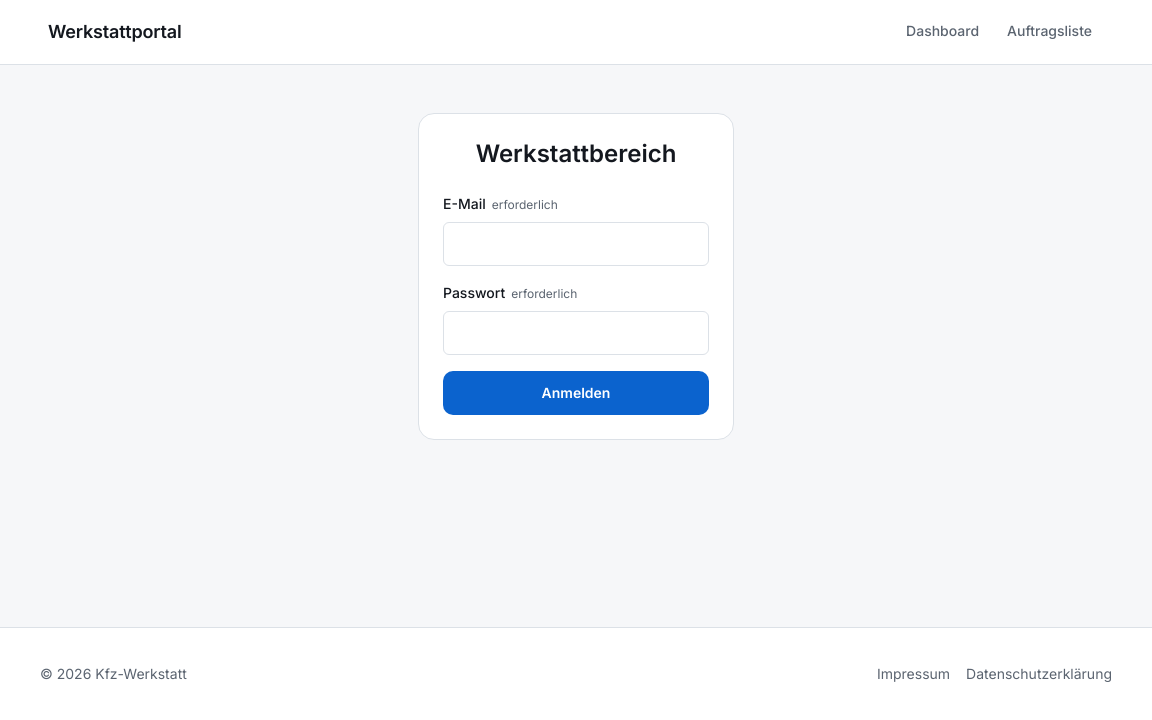
Scenario: WorkshopLogin › logs in, stores the session and opens the workshop area
In the field labelled "E-Mail": x=576, y=244 [443,222,709,266], type "anna@werkstatt.de"
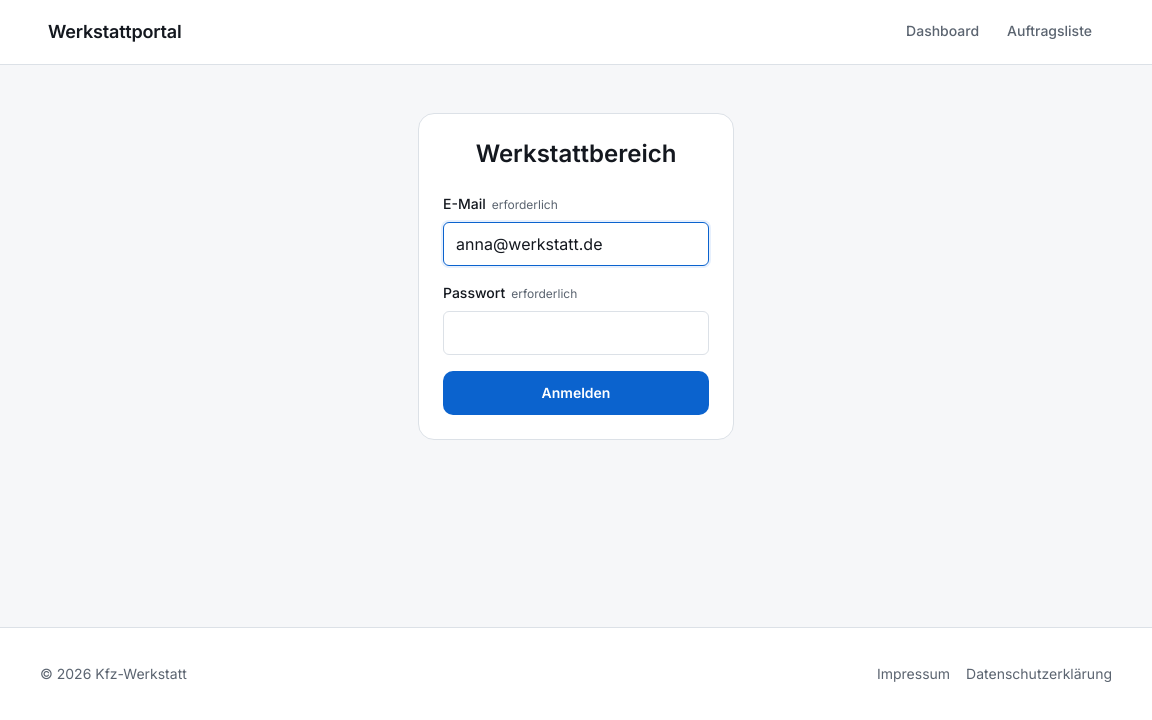
In the password field labelled "Passwort": x=576, y=333 [443,311,709,355], type "geheim"
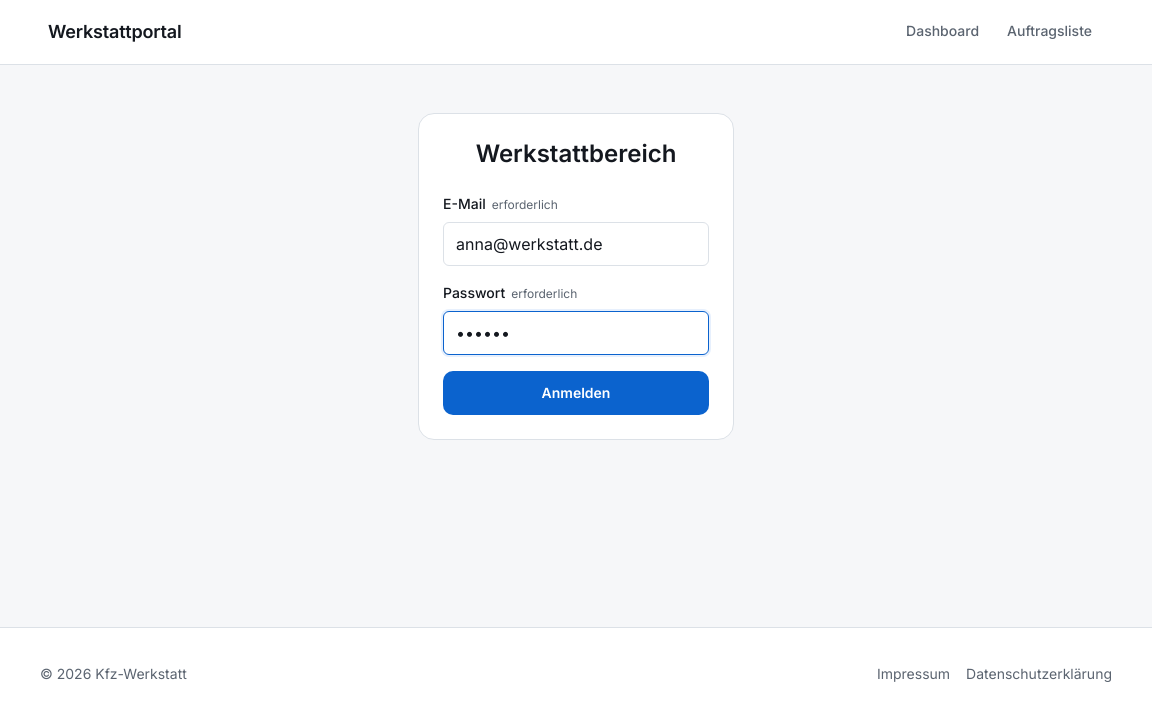
Click the button "Anmelden": x=576, y=393 [443,371,709,415]
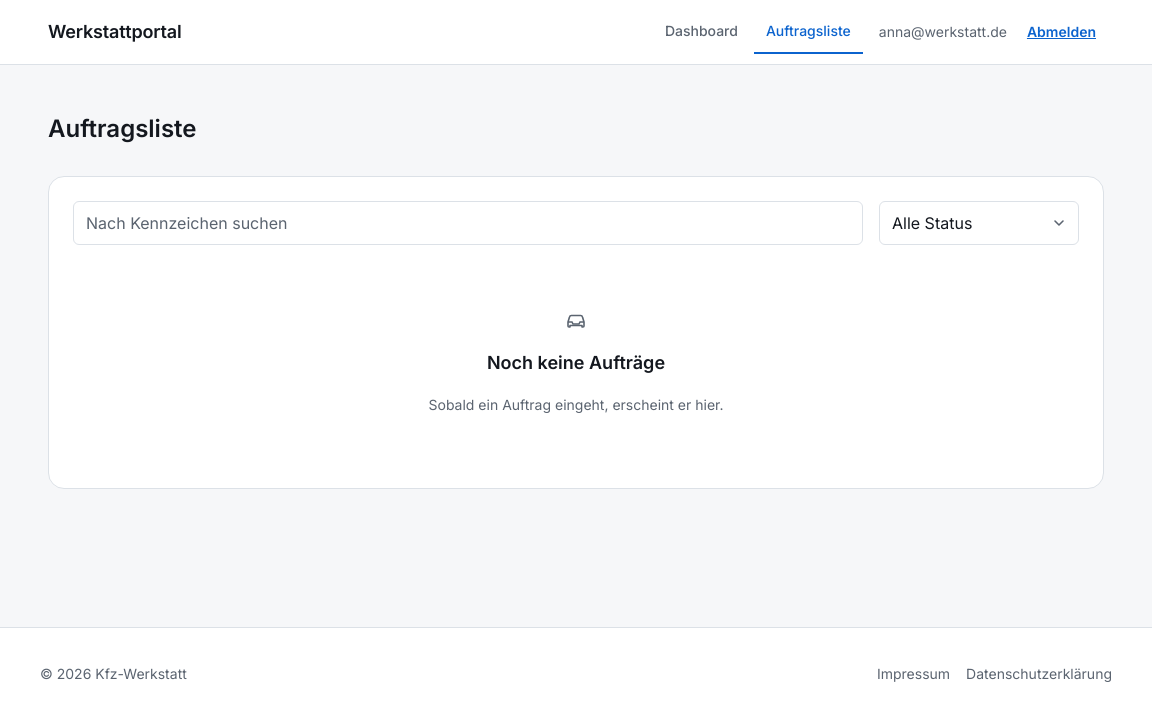
expect the text "anna@werkstatt.de" is shown: met, box [879,21,1007,43]
